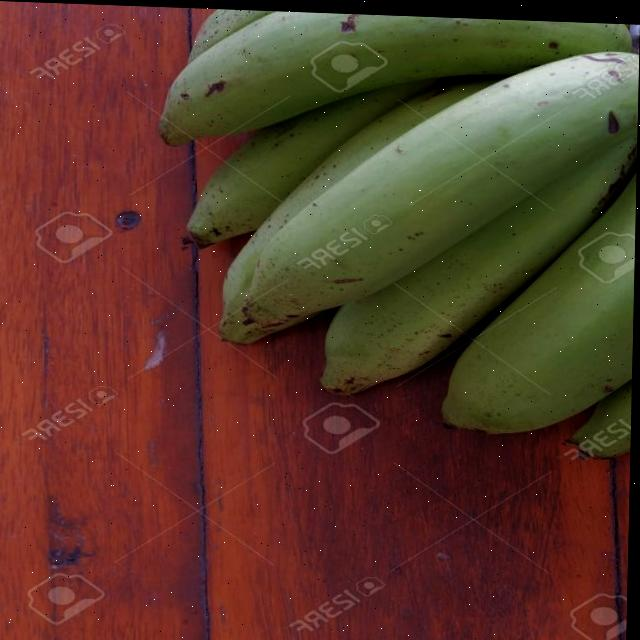banana: (139, 6, 640, 470)
